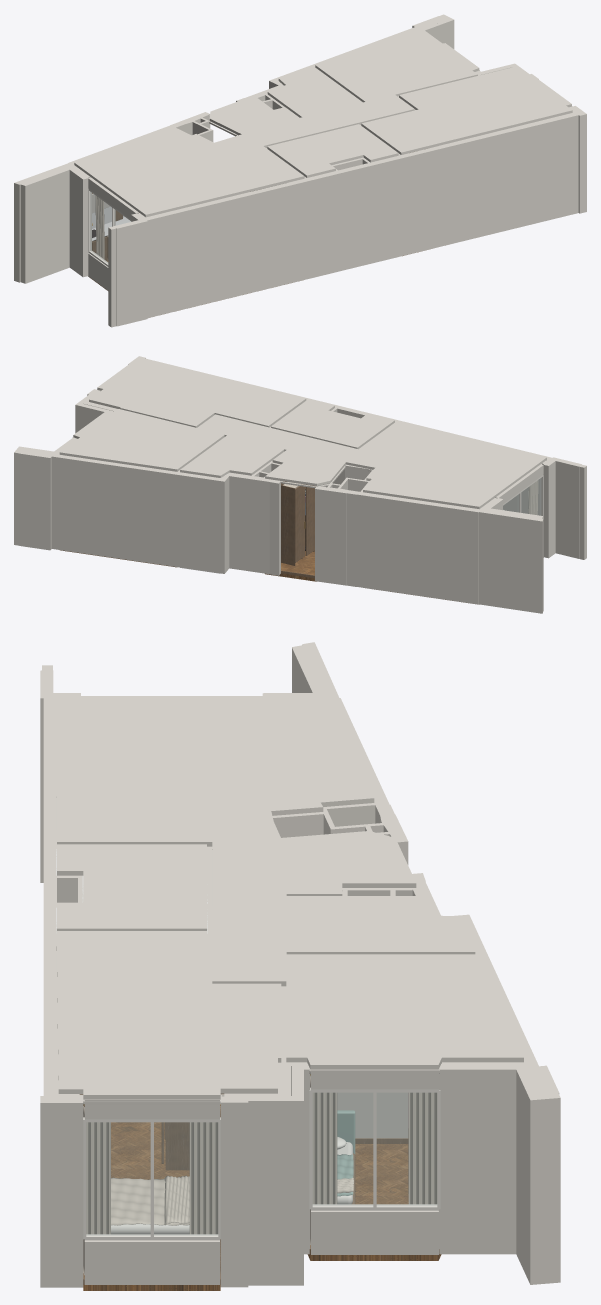
Rendered from SOBYTIE_A.glb.
The picture shows the model from 3 angles, top to bottom: view 1: azimuth 30°, elevation 25°; view 2: azimuth 150°, elevation 25°; view 3: azimuth 270°, elevation 25°; orthographic projection. The views are drawn at different scales.
Visible parts, largest first — view 1: Wall_34, Ceiling_kitchen, Wall_13, Ceiling_lower, Wall_12, Ceiling_upper, Ceiling_corridor, Wall_43, Wall_30, Wall_31, Ceiling_bath65, Wall_4 (+10 smaller); view 2: Wall_20, Wall_49, Ceiling_kitchen, Ceiling_lower, Ceiling_upper, Wall_3, Ceiling_corridor, Wall_32, Ceiling_bath65, Wall_29, Wall_64, Ceiling_bath5 (+16 smaller); view 3: Ceiling_kitchen, Ceiling_lower, Ceiling_upper, Ceiling_corridor, Wall_36, Window_glass_lower, Window_glass_upper, Ceiling_bath65, Wall_38, Ceiling_bath5, Wall_69, Wall_window_sill_lower (+30 smaller).
Boxes of the visible parts, x1,y1,x2,y2 form: Wall_34: (403, 113, 578, 254); Ceiling_kitchen: (74, 126, 304, 217); Wall_13: (286, 155, 406, 283); Ceiling_lower: (361, 68, 572, 154); Wall_12: (180, 192, 253, 309); Ceiling_upper: (315, 28, 479, 102); Ceiling_corridor: (209, 94, 414, 147); Wall_43: (20, 167, 69, 283); Wall_30: (143, 209, 183, 317); Wall_31: (250, 183, 289, 292); Ceiling_bath65: (267, 124, 398, 177); Wall_4: (115, 219, 147, 326); Wall_20: (51, 455, 220, 572); Wall_49: (330, 488, 477, 604); Ceiling_kitchen: (346, 421, 546, 509); Ceiling_lower: (89, 359, 306, 427); Ceiling_upper: (59, 409, 224, 471); Wall_3: (479, 509, 543, 613); Ceiling_corridor: (197, 414, 357, 485); Wall_32: (226, 472, 271, 574); Ceiling_bath65: (271, 399, 394, 449); Wall_29: (19, 449, 59, 550); Wall_64: (315, 486, 351, 585); Ceiling_bath5: (180, 435, 284, 477); Ceiling_kitchen: (57, 696, 374, 846); Ceiling_lower: (56, 931, 281, 1099); Ceiling_upper: (286, 954, 523, 1069); Ceiling_corridor: (212, 831, 416, 986); Wall_36: (439, 1064, 527, 1254); Window_glass_lower: (86, 1122, 217, 1235); Window_glass_upper: (313, 1093, 436, 1205); Ceiling_bath65: (57, 844, 206, 930); Wall_38: (247, 1096, 303, 1285); Ceiling_bath5: (286, 896, 475, 954); Wall_69: (40, 1094, 83, 1287); Wall_window_sill_lower: (84, 1240, 219, 1284).
Bounding box in the file's own units: 16.58 × 3.29 × 7.92.
23 materials, 3 textured.
